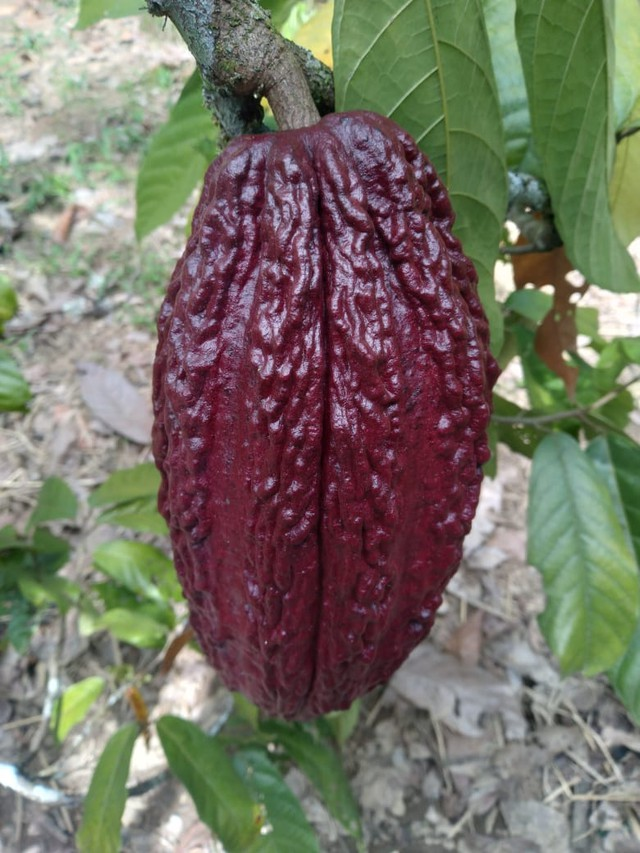Health: (137, 79, 508, 738)
